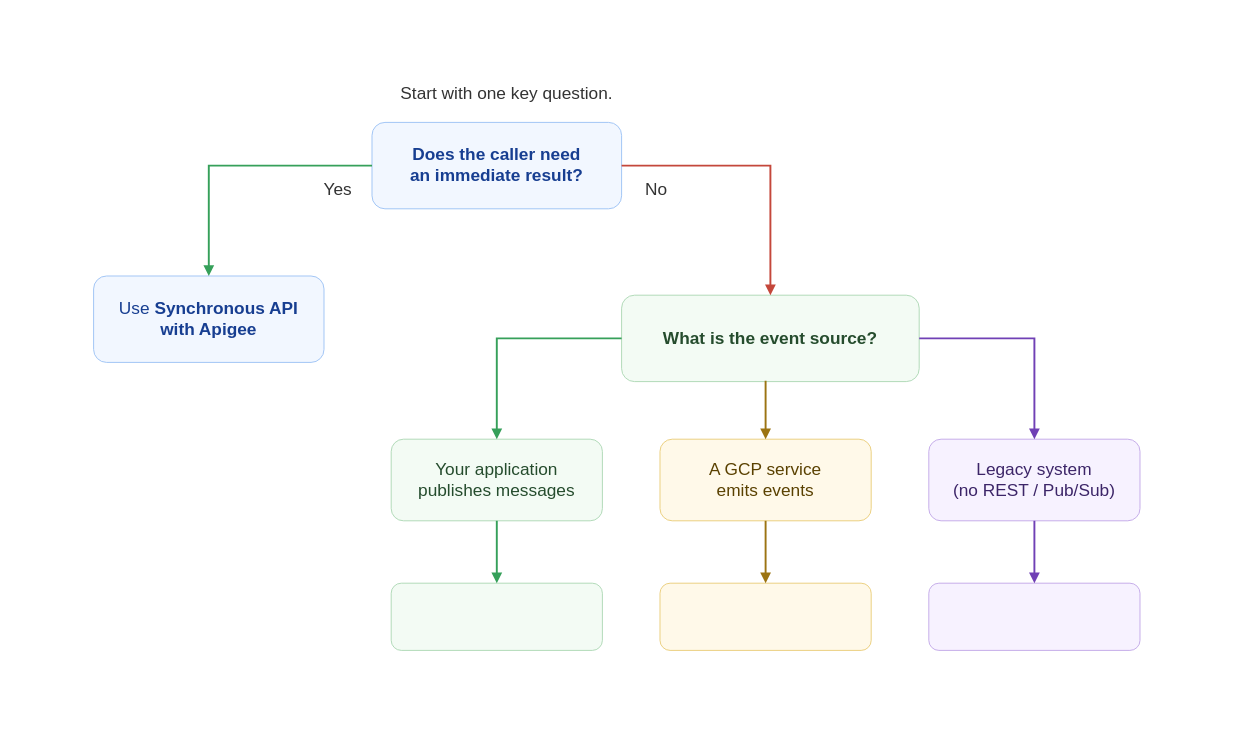
This 1233x753 diagram has some shape labels left out. The shapes that lost their labels are listed below. From the top down, each one's centre as x and y in pixels, then its label:
At (496,616): "Use Pub/Sub".
At (765,616): "Use Eventarc".
At (1034,616): "Use Adapter Layer".
